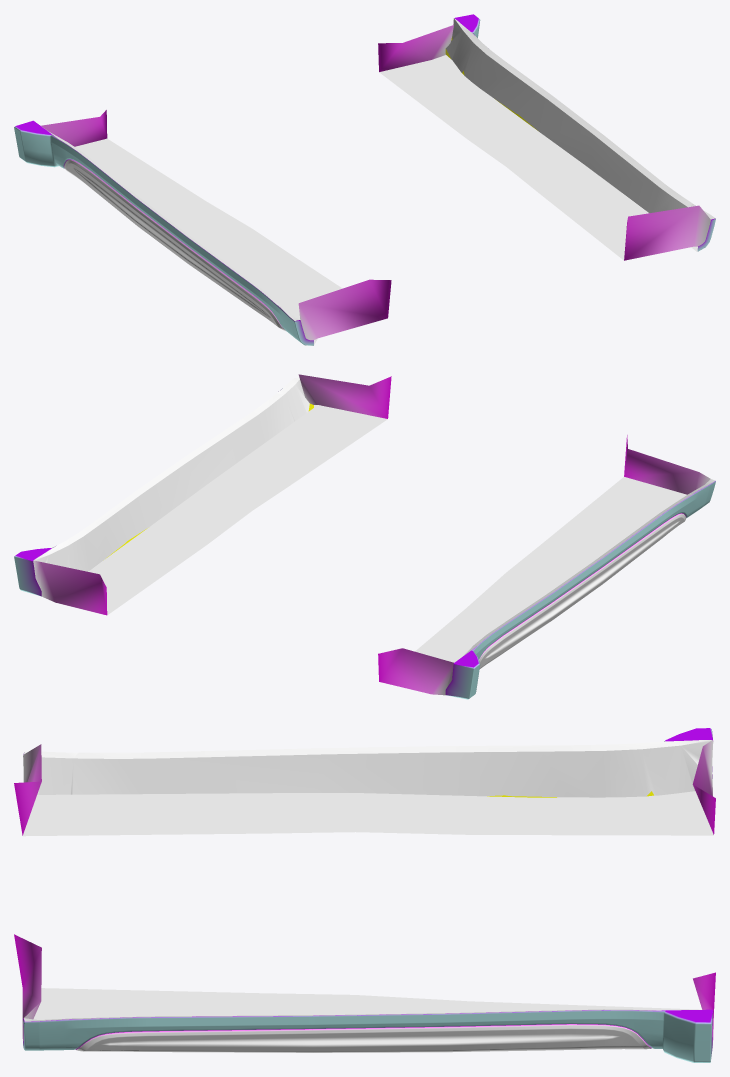
The model's file is Car_Mini_CountrymanJCW_2017_Skirts_SetA_AltF.fbx.
3 renders of one model, top to bottom at view 1: azimuth 30°, elevation 25°; view 2: azimuth 150°, elevation 25°; view 3: azimuth 270°, elevation 25°, orthographic. The views are drawn at different scales.
Visible parts, largest first — view 1: Skirts 6; view 2: Skirts 6; view 3: Skirts 6.
Boxes of the visible parts, box(x1,y1,x2,y2) form: Skirts 6: box(14, 14, 715, 345); Skirts 6: box(14, 374, 715, 699); Skirts 6: box(14, 728, 715, 1062).
Bounding box in the file's own units: 1.89 × 0.1973 × 1.9.
